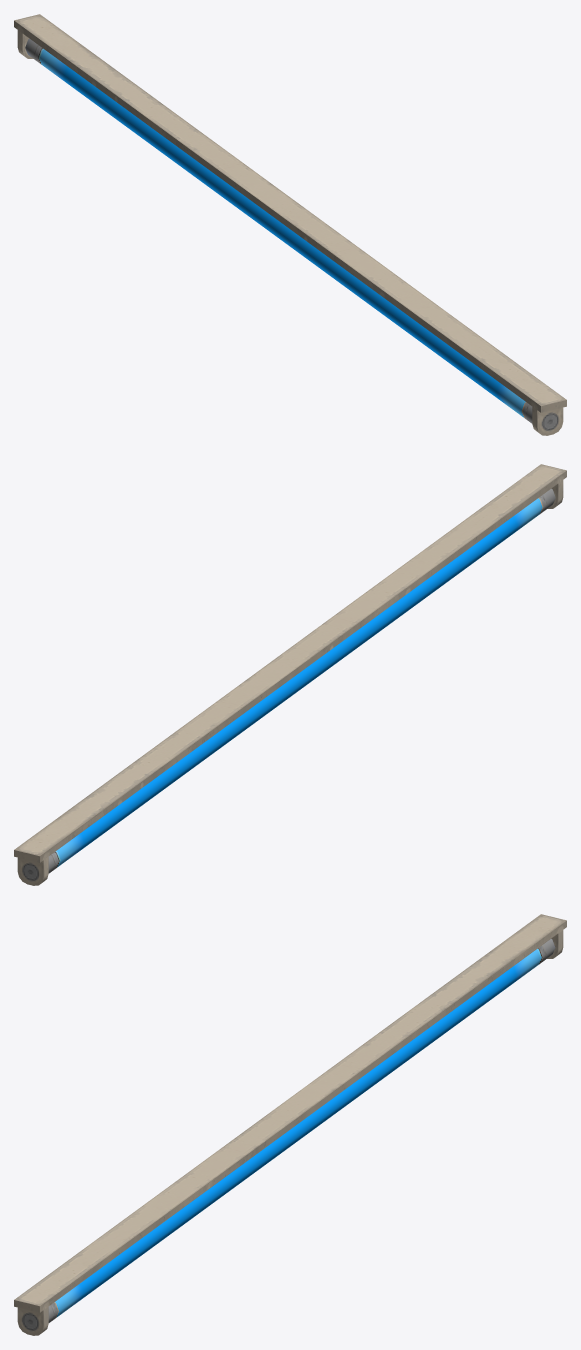
The model's file is HH_Lamp_04.fbx.
3 views of the same model, one above another, from view 1: azimuth 30°, elevation 25°; view 2: azimuth 150°, elevation 25°; view 3: azimuth 330°, elevation 25° (orthographic).
Visible parts, largest first — view 1: HH_Lamp_04; view 2: HH_Lamp_04; view 3: HH_Lamp_04.
Boxes of the visible parts, x1,y1,x2,y2 form: HH_Lamp_04: (14, 14, 566, 435); HH_Lamp_04: (14, 464, 566, 885); HH_Lamp_04: (14, 914, 566, 1335).
Bounding box in the file's own units: 5.21 × 6.68 × 184.
